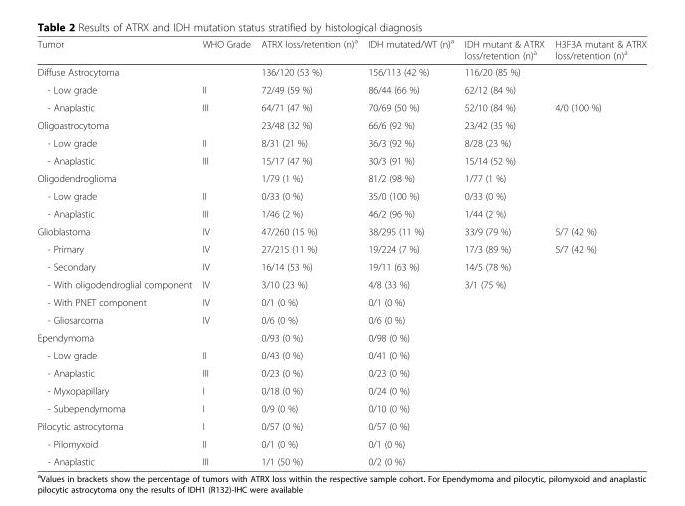table: (36, 36, 646, 466)
table column: (36, 36, 196, 466), (255, 36, 362, 466), (549, 36, 646, 466), (362, 36, 458, 466), (458, 36, 549, 466), (196, 36, 255, 466)
table column header: (36, 36, 646, 63)
table row: (36, 36, 646, 63), (36, 80, 646, 98), (36, 98, 646, 116), (36, 133, 646, 151), (36, 151, 646, 169), (36, 186, 646, 204), (36, 204, 646, 222), (36, 239, 646, 257), (36, 257, 646, 275), (36, 275, 646, 293), (36, 310, 646, 328), (36, 328, 646, 346), (36, 363, 646, 381), (36, 381, 646, 399), (36, 416, 646, 434), (36, 434, 646, 452), (36, 63, 646, 80), (36, 116, 646, 133), (36, 169, 646, 186), (36, 222, 646, 239), (36, 293, 646, 310), (36, 346, 646, 363), (36, 399, 646, 416), (36, 452, 646, 466)
